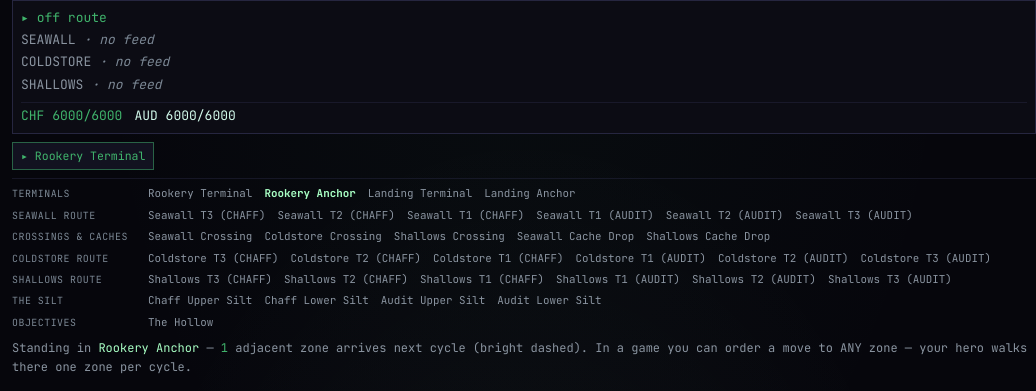
Test: MapPrimer › every zone in the topology is clickable in the grouped index
The width and height of the screenshot is (1036, 391).
Click the button with test id "primer-all-hollow" at (181, 322), box [144, 314, 217, 331]
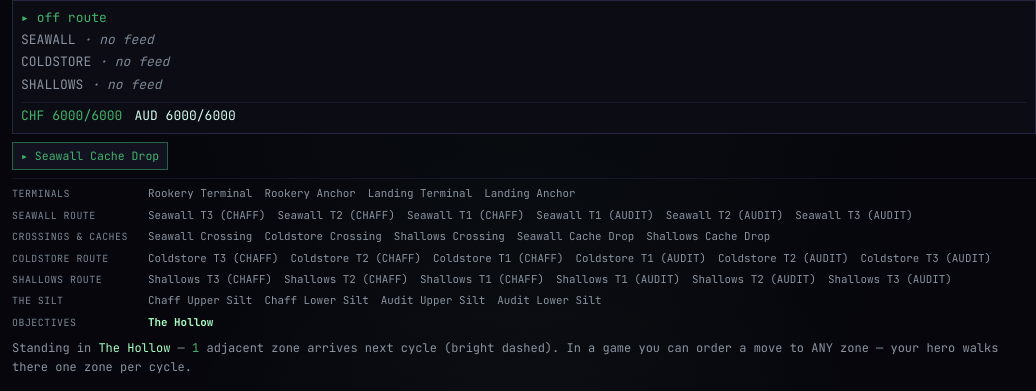
Expected: the element with test id "map-primer-caption" shows "The Hollow", [98, 340, 170, 356]
